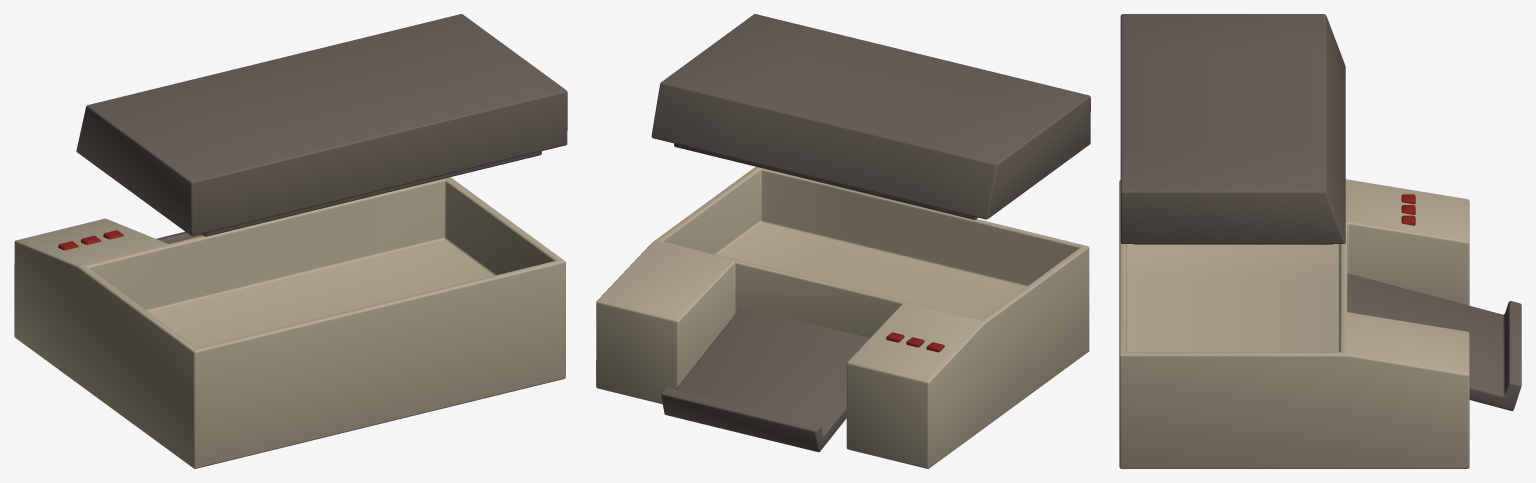
Rendered from drukarka.fbx.
3 views of the same model, side by side, from view 1: azimuth 30°, elevation 25°; view 2: azimuth 150°, elevation 25°; view 3: azimuth 270°, elevation 25° (orthographic). The views are drawn at different scales.
Parts seen in each view (by area): view 1: Cube, Cube.001; view 2: Cube, Cube.001; view 3: Cube, Cube.001.
Part boxes in pixels (bbox=[...]): Cube: bbox=[14, 177, 565, 468]; Cube.001: bbox=[76, 14, 567, 236]; Cube: bbox=[596, 167, 1089, 468]; Cube.001: bbox=[651, 14, 1090, 219]; Cube: bbox=[1119, 179, 1521, 468]; Cube.001: bbox=[1120, 14, 1345, 244].
Bounding box in the file's own units: 122 × 89.31 × 117.
